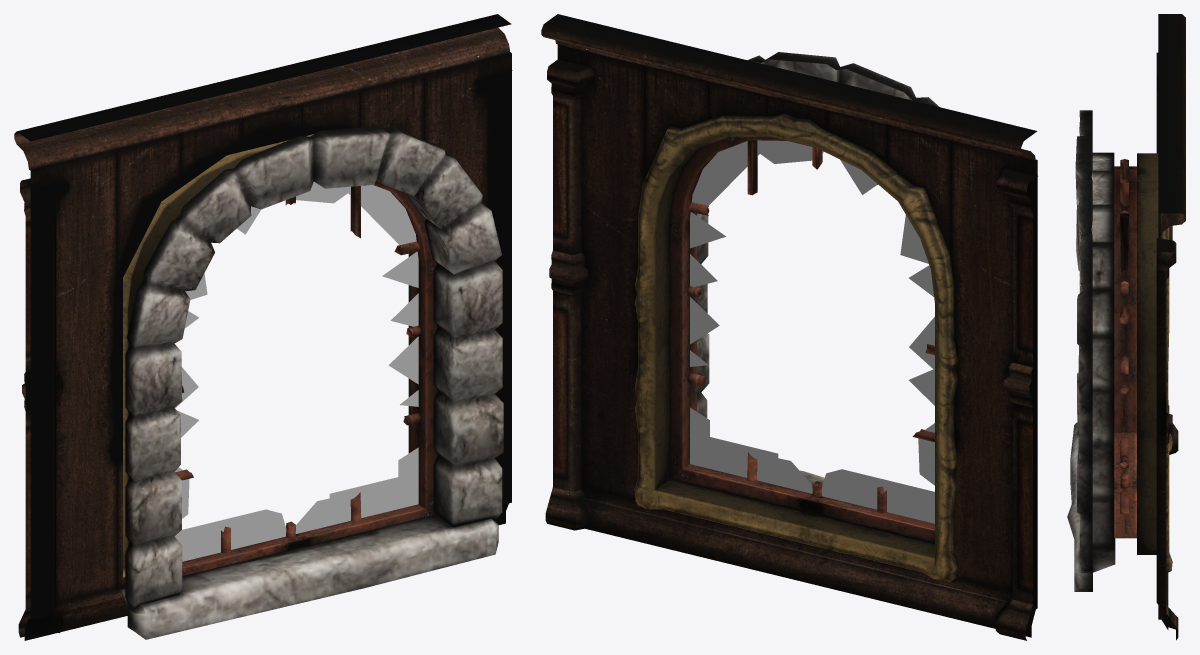
The model's file is window_large_blue_broken.dae.
3 views of the same model, side by side, from view 1: azimuth 30°, elevation 25°; view 2: azimuth 150°, elevation 25°; view 3: azimuth 270°, elevation 25° (orthographic). The views are drawn at different scales.
Parts seen in each view (by area): view 1: window_large_02_blue11, polySurface639, polySurface640, window_frame_no_boards, broken_glass, polySurface699; view 2: window_large_02_blue11, window_frame_no_boards, broken_glass, polySurface639, polySurface699; view 3: window_frame_no_boards, polySurface639, window_large_02_blue11, polySurface699, polySurface640.
Boxes of the visible parts, left/top/right/bottom form: window_large_02_blue11: left=14, top=14, right=512, bottom=640; polySurface639: left=125, top=126, right=503, bottom=609; polySurface640: left=121, top=514, right=498, bottom=639; window_frame_no_boards: left=123, top=134, right=437, bottom=577; broken_glass: left=174, top=181, right=418, bottom=561; polySurface699: left=175, top=186, right=420, bottom=553; window_large_02_blue11: left=541, top=14, right=1037, bottom=640; window_frame_no_boards: left=634, top=113, right=959, bottom=581; broken_glass: left=690, top=140, right=934, bottom=523; polySurface639: left=697, top=52, right=939, bottom=417; polySurface699: left=687, top=140, right=934, bottom=513; window_frame_no_boards: left=1114, top=153, right=1172, bottom=573; polySurface639: left=1075, top=110, right=1114, bottom=570; window_large_02_blue11: left=1156, top=14, right=1185, bottom=640; polySurface699: left=1120, top=159, right=1129, bottom=514; polySurface640: left=1067, top=422, right=1115, bottom=591.
Bounding box in the file's own units: 4 × 4 × 1.01.
